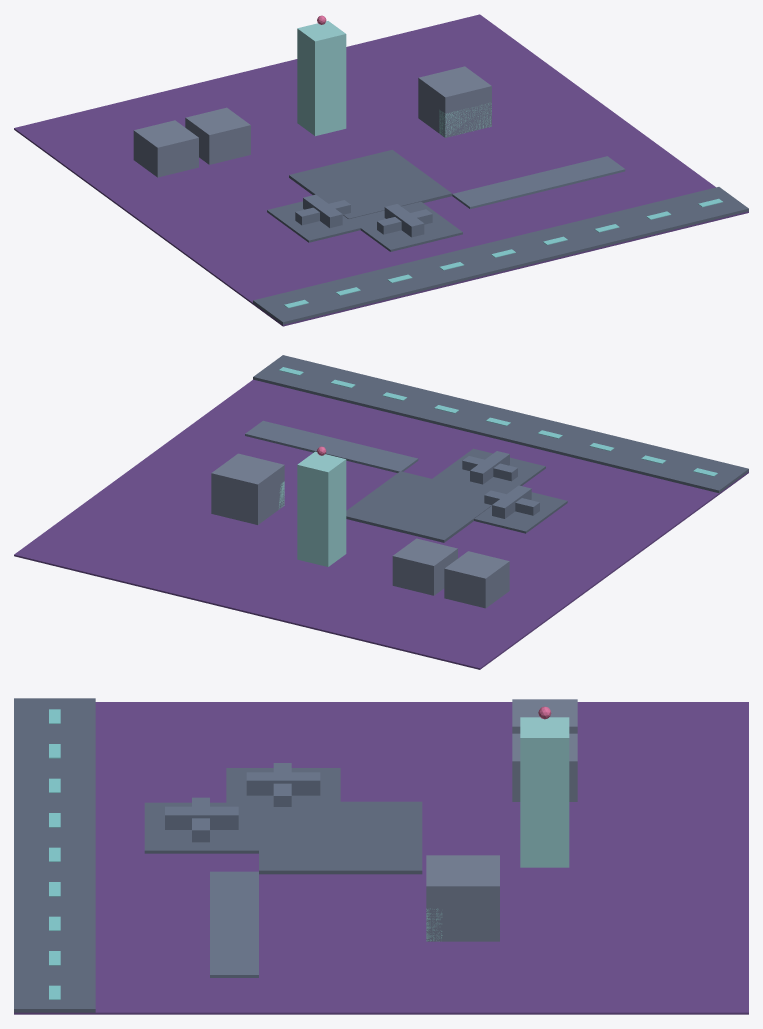
File: stage_08.glb
The picture shows the model from 3 angles, top to bottom: view 1: azimuth 30°, elevation 25°; view 2: azimuth 150°, elevation 25°; view 3: azimuth 270°, elevation 25°; orthographic projection. The views are drawn at different scales.
Parts seen in each view (by area): view 1: geometry_0; view 2: geometry_0; view 3: geometry_0.
Boxes of the visible parts, x1,y1,x2,y2 form: geometry_0: [14, 14, 748, 326]; geometry_0: [14, 355, 748, 669]; geometry_0: [14, 698, 748, 1014].
Bounding box in the file's own units: 9 × 2.06 × 9.
